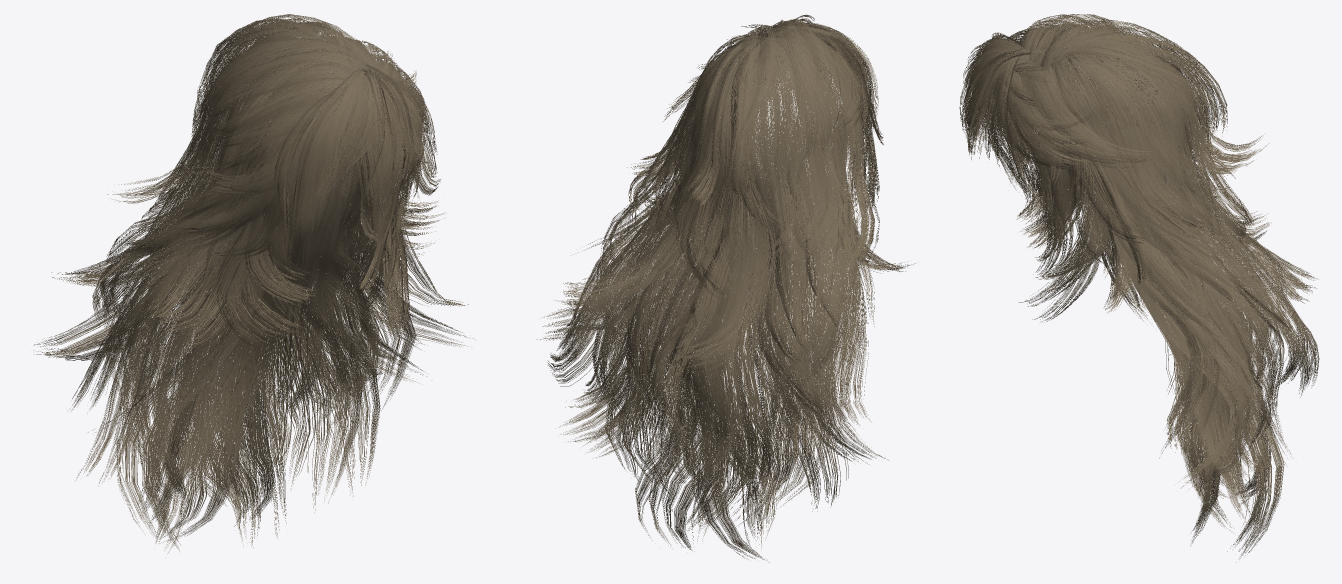
File: Female Hair DL.fbx
3 renders of one model, left to right at view 1: azimuth 30°, elevation 25°; view 2: azimuth 150°, elevation 25°; view 3: azimuth 270°, elevation 25°, orthographic. The views are drawn at different scales.
Parts seen in each view (by area): view 1: Hair.02; view 2: Hair.02; view 3: Hair.02.
Part boxes in pixels (<box>): Hair.02: <box>33,14,473,557</box>; Hair.02: <box>536,14,914,562</box>; Hair.02: <box>959,14,1319,559</box>.
Bounding box in the file's own units: 52.93 × 67.25 × 42.41.
1 material, 1 textured.
